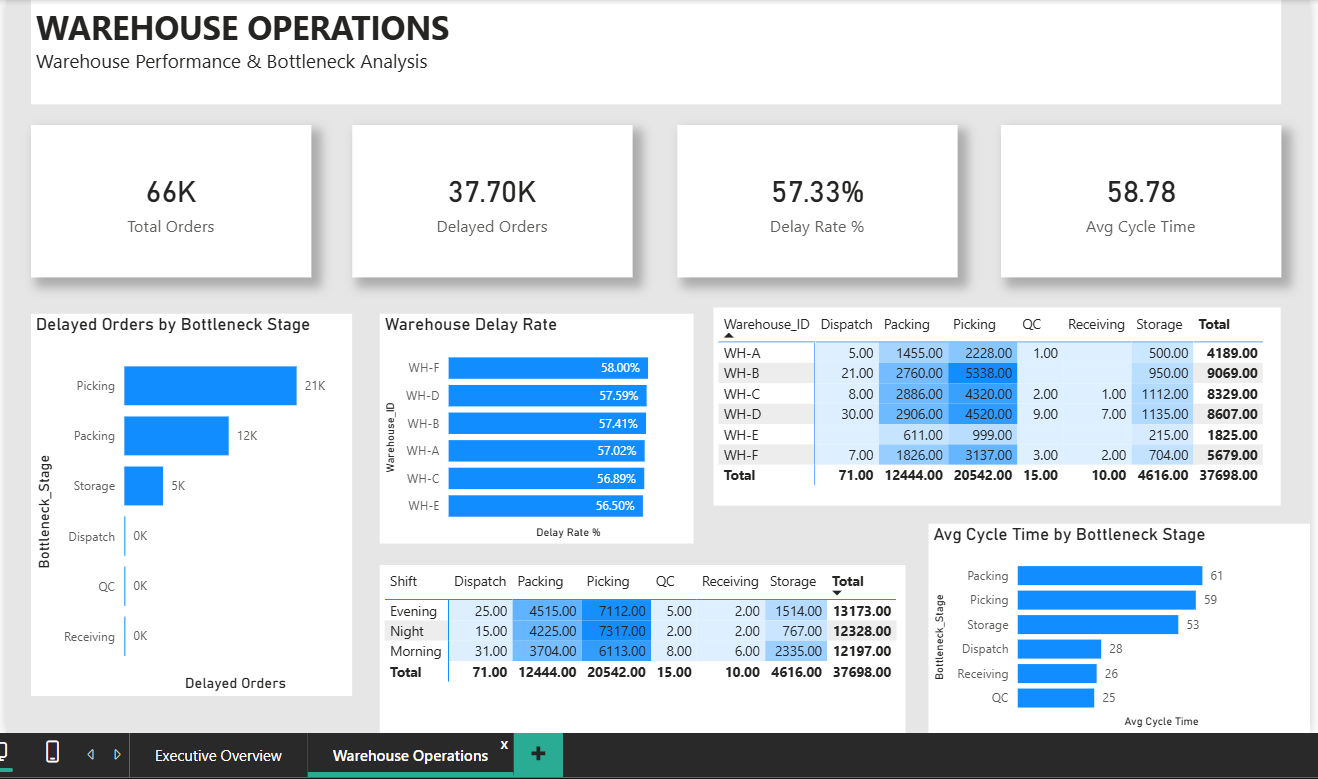

The page's visual inventory and layout, read from the dashboard file:
{"tool":"powerbi","page":{"name":"Warehouse Operations","canvas":[1280,720],"ordinal":1},"visuals":[{"type":"textbox","box":[24.6,0,1226.8,102.8],"z":0},{"type":"card","fields":{"Values":["Fact_Orders.Total Orders"]},"box":[24.6,122.9,274.9,149.7],"z":1},{"type":"card","fields":{"Values":["Fact_Orders.Delayed Orders"]},"box":[339.7,122.9,274.9,149.7],"z":2},{"type":"card","fields":{"Values":["Fact_Orders.Delay Rate %"]},"box":[659.2,122.9,274.9,149.7],"z":3},{"type":"card","fields":{"Values":["Fact_Orders.Avg Cycle Time"]},"box":[976.5,122.9,274.9,149.7],"z":4},{"type":"pivotTable","fields":{"Rows":["Dim_Warehouse.Warehouse_ID"],"Columns":["Fact_Orders.Bottleneck_Stage"],"Values":["Fact_Orders.Delayed Orders"]},"box":[695,301.7,556.4,194.4],"z":5},{"type":"clusteredBarChart","title":"Warehouse Delay Rate","fields":{"Category":["Dim_Warehouse.Warehouse_ID"],"Y":["Fact_Orders.Delay Rate %"]},"box":[366.5,308.4,308.4,225.7],"z":6},{"type":"clusteredBarChart","title":"Delayed Orders by Bottleneck Stage","fields":{"Category":["Fact_Orders.Bottleneck_Stage"],"Y":["Fact_Orders.Delayed Orders"]},"box":[24.6,308.4,315.1,375.4],"z":7},{"type":"pivotTable","fields":{"Rows":["Dim_Shift.Shift"],"Columns":["Fact_Orders.Bottleneck_Stage"],"Values":["Fact_Orders.Delayed Orders"]},"box":[366.5,554.2,516.2,165.4],"z":8},{"type":"clusteredBarChart","title":"Avg Cycle Time by Bottleneck Stage","fields":{"Category":["Fact_Orders.Bottleneck_Stage"],"Y":["Fact_Orders.Avg Cycle Time"]},"box":[905,514,375.4,205.6],"z":9}]}

Visuals, with their boxes on the page's 1280x720 design canvas (x1, y1, x2, y2). These are canvas units, not pixel positions in the 1318x779 screenshot, which may show the page scaled, cropped or inside an application window:
textbox: <region>25, 0, 1251, 103</region>
card - Fact_Orders.Total Orders: <region>25, 123, 300, 273</region>
card - Fact_Orders.Delayed Orders: <region>340, 123, 615, 273</region>
card - Fact_Orders.Delay Rate %: <region>659, 123, 934, 273</region>
card - Fact_Orders.Avg Cycle Time: <region>976, 123, 1251, 273</region>
pivotTable - Dim_Warehouse.Warehouse_ID x Fact_Orders.Bottleneck_Stage: <region>695, 302, 1251, 496</region>
"Warehouse Delay Rate" clusteredBarChart: <region>366, 308, 675, 534</region>
"Delayed Orders by Bottleneck Stage" clusteredBarChart: <region>25, 308, 340, 684</region>
pivotTable - Dim_Shift.Shift x Fact_Orders.Bottleneck_Stage: <region>366, 554, 883, 720</region>
"Avg Cycle Time by Bottleneck Stage" clusteredBarChart: <region>905, 514, 1280, 720</region>
